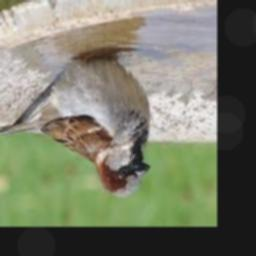Sparrow: (0, 55, 150, 198)
